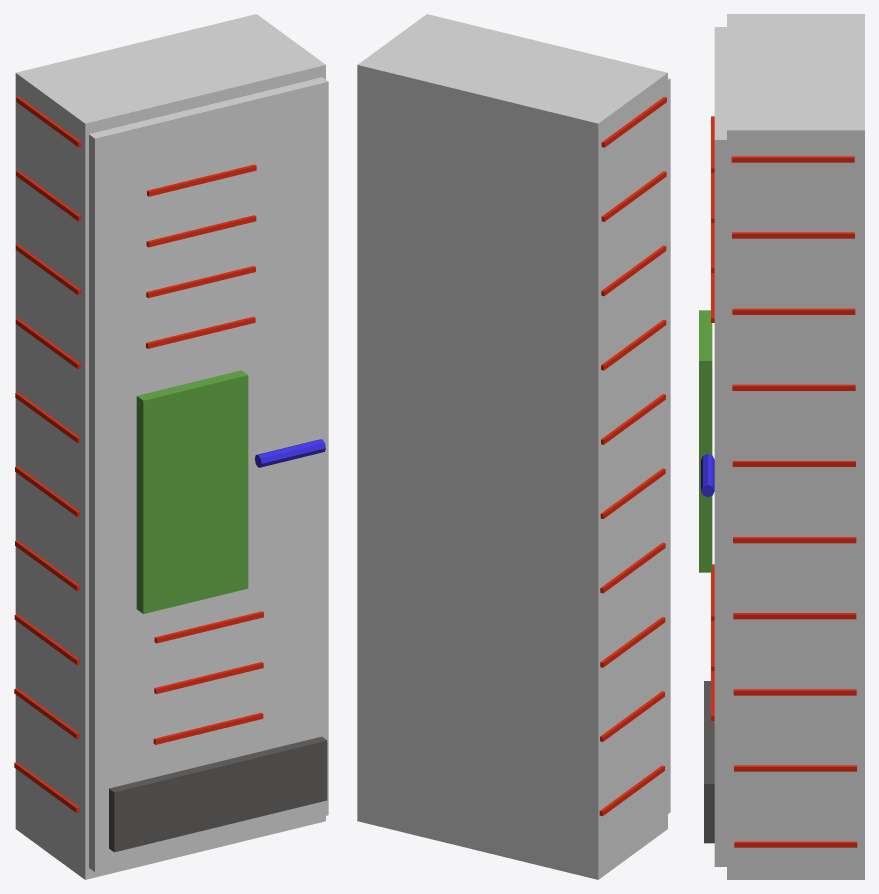
Rendered from Inverter.fbx.
3 renders of one model, left to right at view 1: azimuth 30°, elevation 25°; view 2: azimuth 150°, elevation 25°; view 3: azimuth 270°, elevation 25°, orthographic.
Visible parts, largest first — view 1: Inverter_Body, Inverter_Display, Inverter_CableGland, Inverter_Grille_side 2, Inverter_Grille_Top, Inverter_Grille_Bottom, Inverter_Handle; view 2: Inverter_Body, Inverter_Grille_side 2; view 3: Inverter_Body, Inverter_Grille_side 1, Inverter_Display, Inverter_CableGland, Inverter_Grille_Top, Inverter_Grille_Bottom, Inverter_Handle.
Part boxes in pixels (x1,y1,x2,y2): Inverter_Body: (15,14,328,879); Inverter_Display: (136,370,248,613); Inverter_CableGland: (109,736,327,852); Inverter_Grille_side 2: (14,96,81,812); Inverter_Grille_Top: (146,164,256,348); Inverter_Grille_Bottom: (153,611,263,744); Inverter_Handle: (255,439,325,467); Inverter_Body: (357,14,670,879); Inverter_Grille_side 2: (599,97,666,816); Inverter_Body: (714,14,864,879); Inverter_Grille_side 1: (731,156,857,847); Inverter_Display: (699,310,712,572); Inverter_CableGland: (704,681,714,843); Inverter_Grille_Top: (711,116,714,322); Inverter_Grille_Bottom: (711,564,714,720); Inverter_Handle: (701,454,714,497).
Bounding box in the file's own units: 61.56 × 180 × 36.1.
